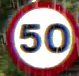Speed limit: (5, 0, 78, 75)
